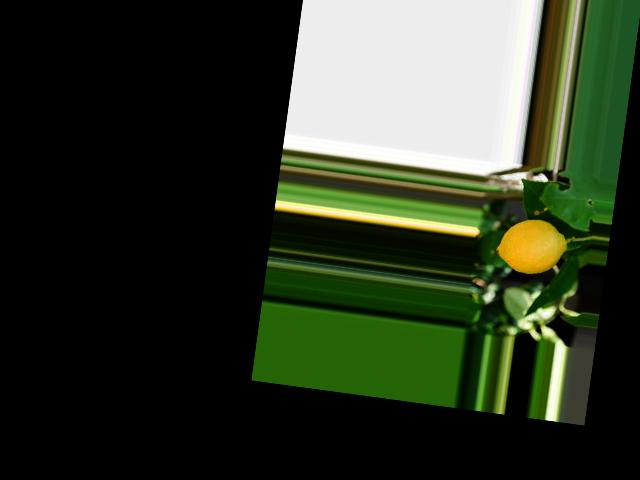lemon: (486, 208, 573, 284)
